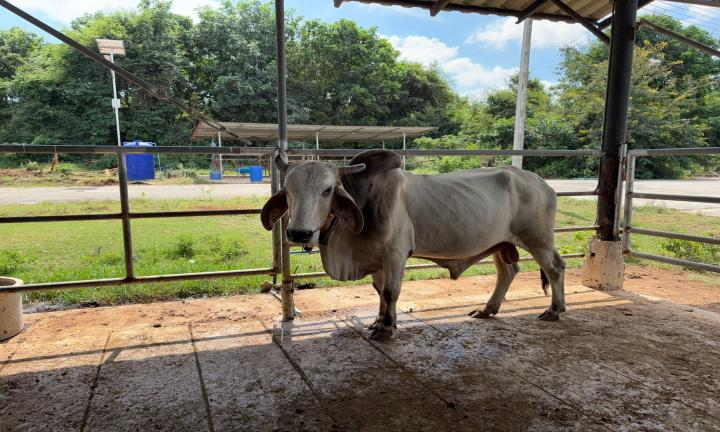Brahman: (261, 149, 565, 339)
